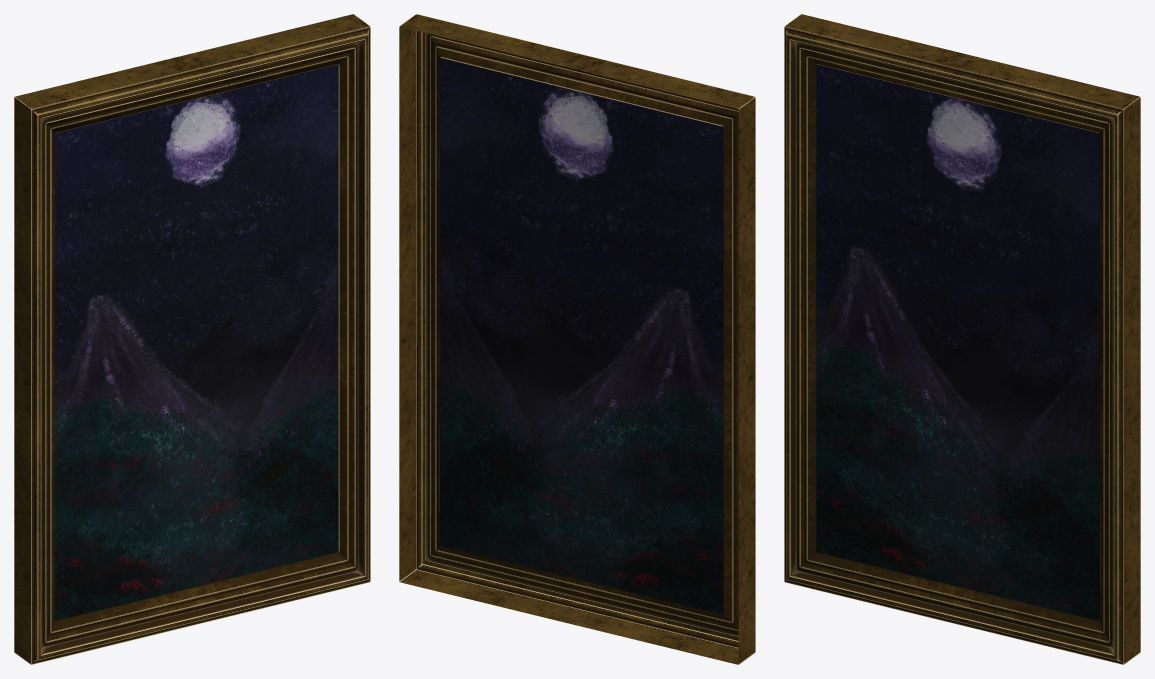
Rendered from painting-portrait-4.fbx.
The picture shows the model from 3 angles, left to right: view 1: azimuth 30°, elevation 25°; view 2: azimuth 150°, elevation 25°; view 3: azimuth 330°, elevation 25°; orthographic projection.
Parts seen in each view (by area): view 1: painting_Var2_4; view 2: painting_Var2_4; view 3: painting_Var2_4.
Part boxes in pixels (bbox=[...]): painting_Var2_4: bbox=[14, 14, 370, 664]; painting_Var2_4: bbox=[399, 14, 755, 664]; painting_Var2_4: bbox=[784, 14, 1140, 664].
Bounding box in the file's own units: 59.07 × 92.39 × 5.86.
Materials: 2 (2 with a texture image).
